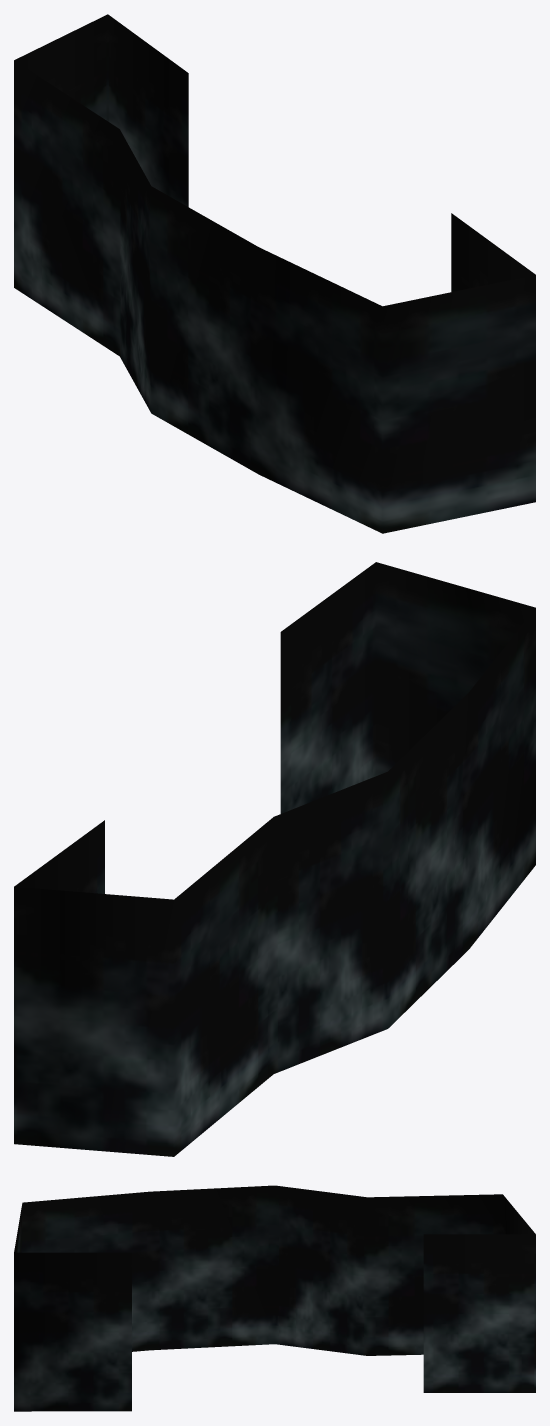
Rendered from nobdub80.obj.
3 views of the same model, one above another, from view 1: azimuth 30°, elevation 25°; view 2: azimuth 150°, elevation 25°; view 3: azimuth 270°, elevation 25° (orthographic). The views are drawn at different scales.
Parts seen in each view (by area): view 1: nobdub80; view 2: nobdub80; view 3: nobdub80.
Boxes of the visible parts, x1,y1,x2,y2 form: nobdub80: (14, 14, 535, 533); nobdub80: (14, 562, 535, 1156); nobdub80: (14, 1185, 535, 1411).
Size of the model in its own units: 91.77 by 101 by 301.
